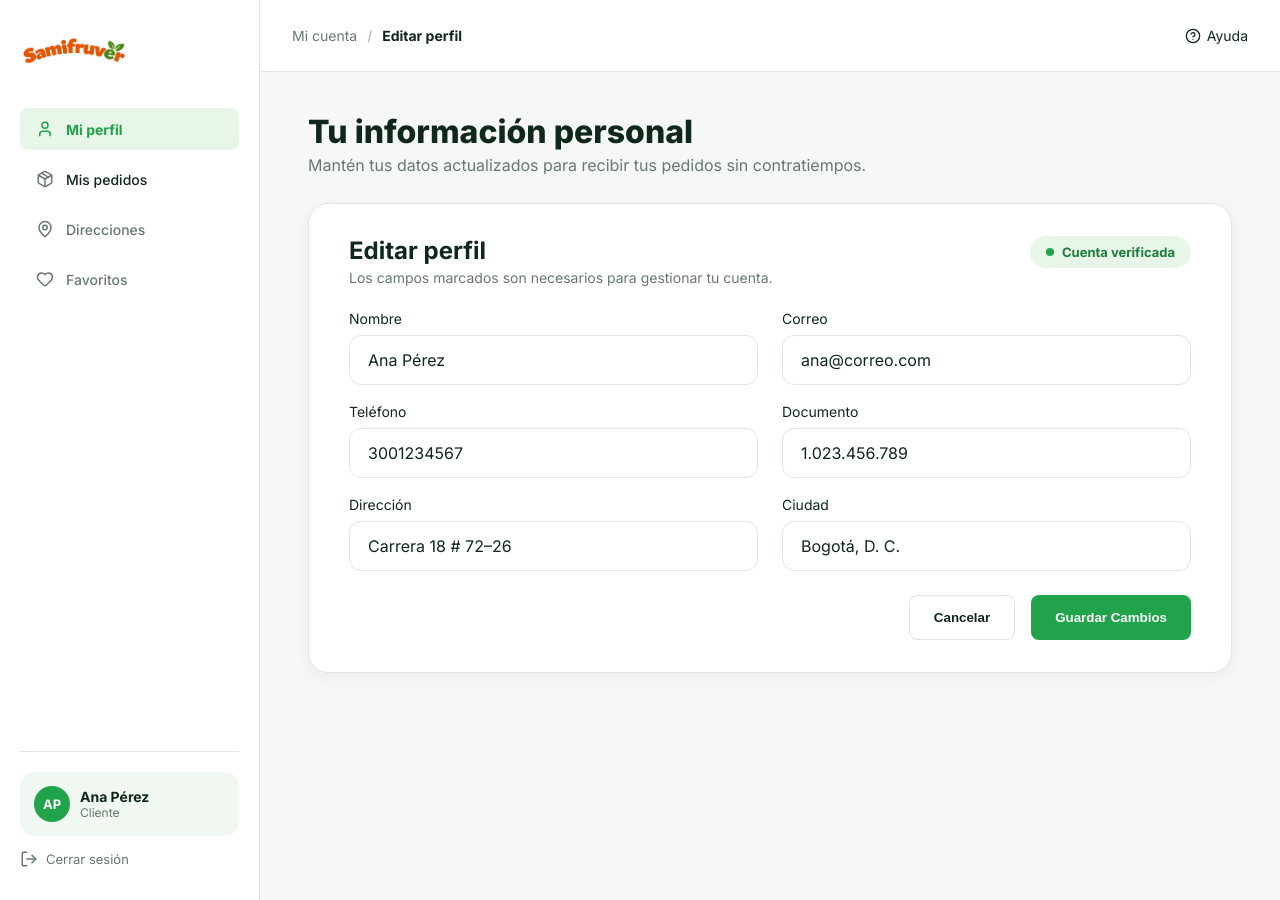
Editar perfil (E2-HU3) › E2-HU3 ESC2: correo de otro cliente → aviso del servidor y la sesión no cambia
expect the field labelled "Documento" holds "1.023.456.789": met, box [799,442,1174,464]
Replace the text in the field labelled "Correo" with "luis@correo.com" at (986, 360), box [799,349,1174,371]
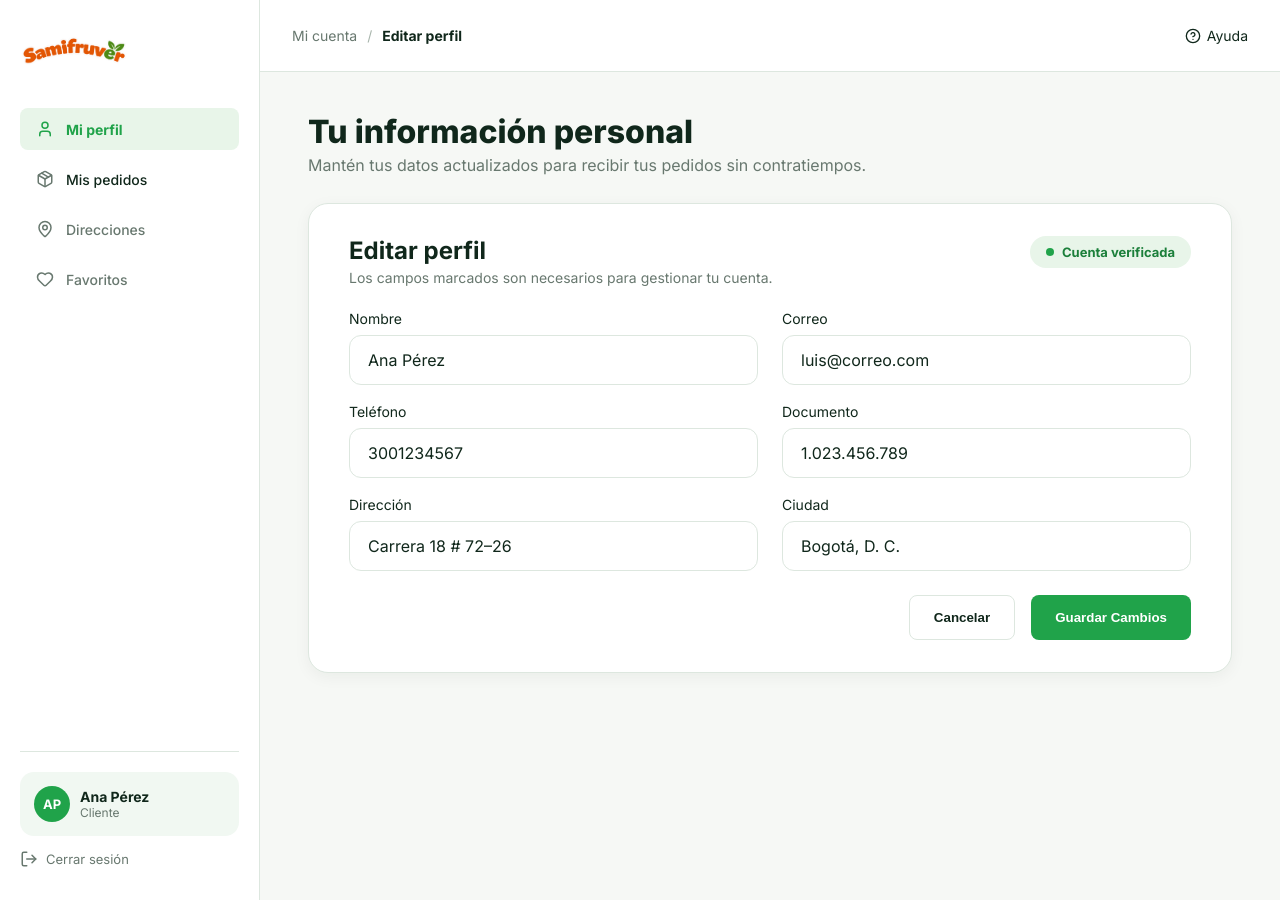
Click the button "Guardar Cambios" at (1111, 618), box [1031,595,1191,640]
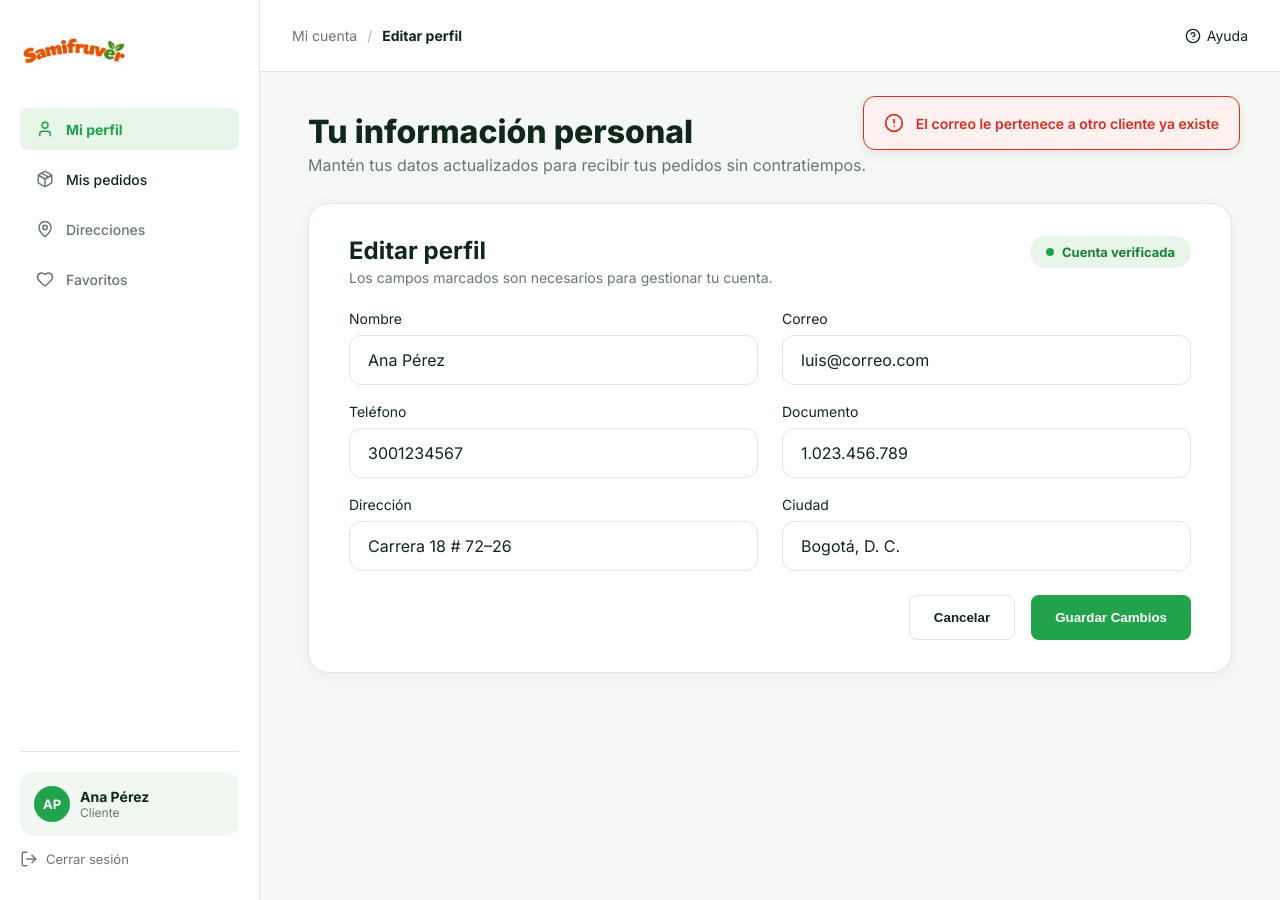
expect the text "El correo le pertenece a otro cliente ya existe" is shown: met, box [916,114,1219,132]
